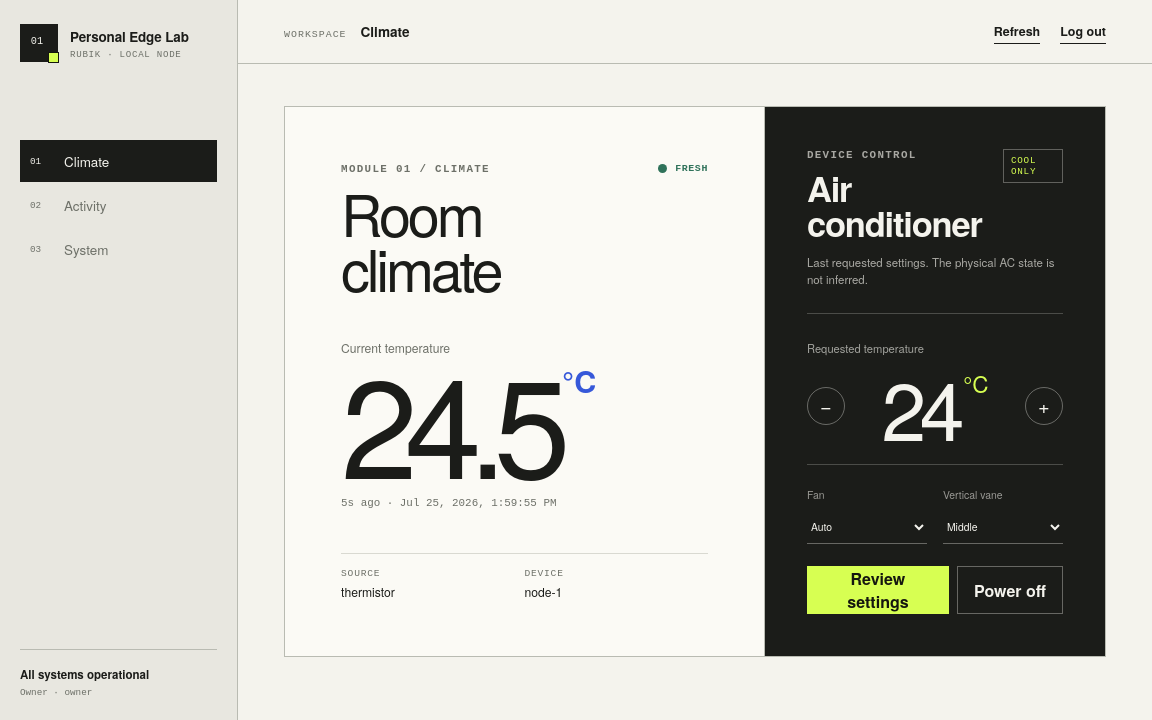
Test: climate control › requires review and one confirmation before Power Off
Expected: the heading "Air conditioner" is shown, [807,171,983,240]
Click the button "Power off" at (1010, 590), box [957,566,1063,614]
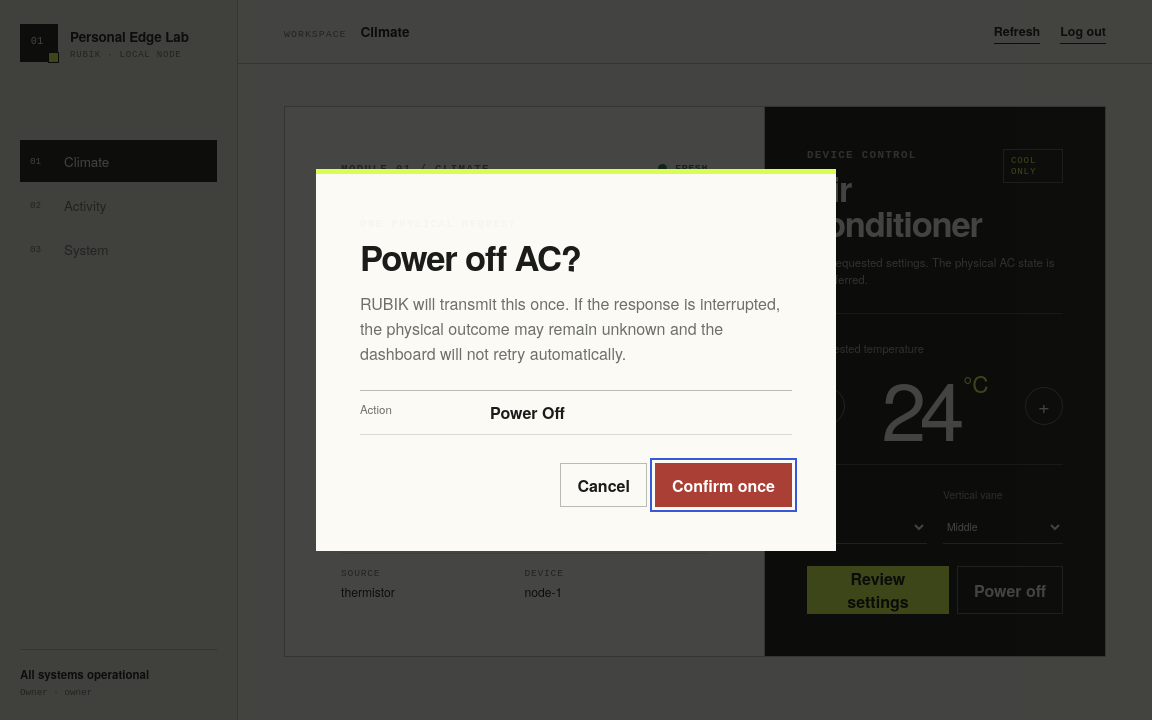
Expected: the dialog shows "Power off AC?", [360,232,581,282]
Click the button "Confirm once" at (723, 486), box [655,464,792,508]
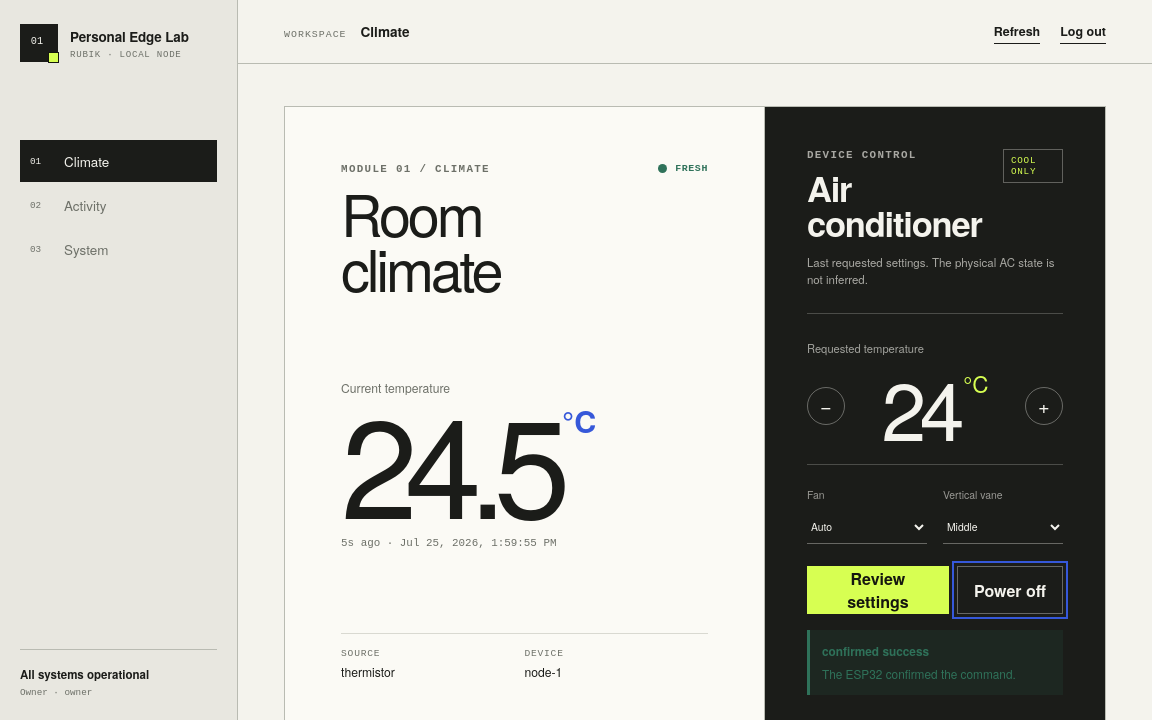
Expected: the text "The ESP32 confirmed the command." is shown, [822,665,1016,682]
